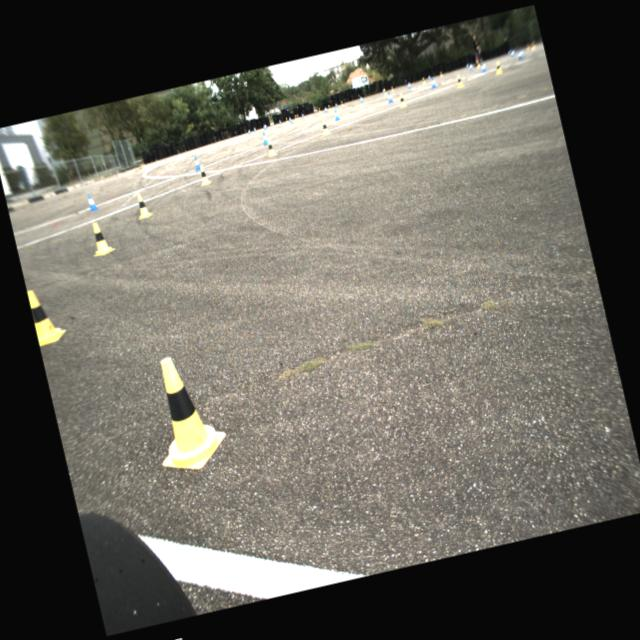blue_cone: (85, 192, 98, 212), (192, 155, 201, 170), (260, 131, 268, 145), (332, 108, 340, 120), (516, 49, 524, 60), (386, 90, 393, 102), (429, 76, 436, 88), (479, 62, 486, 72), (510, 49, 515, 57), (406, 82, 412, 88), (506, 49, 511, 55), (359, 95, 363, 102), (324, 106, 328, 113), (262, 123, 266, 130), (469, 63, 473, 70), (288, 116, 292, 122), (253, 126, 257, 132), (264, 123, 268, 128), (334, 102, 338, 107), (247, 128, 250, 134), (301, 112, 304, 117), (427, 75, 430, 80), (382, 88, 384, 94), (466, 62, 468, 68), (279, 120, 281, 124)
yellow_cone: (140, 348, 232, 476), (28, 284, 68, 345), (87, 219, 115, 256), (132, 191, 152, 219), (196, 165, 212, 186), (264, 140, 278, 156), (319, 118, 331, 136), (397, 91, 407, 108), (454, 73, 464, 88), (493, 60, 502, 74), (530, 40, 536, 50), (382, 88, 388, 96), (474, 60, 480, 68), (421, 76, 426, 85), (389, 85, 394, 92), (317, 106, 321, 114), (479, 58, 484, 64), (293, 114, 297, 121), (340, 100, 344, 107), (438, 70, 442, 77), (526, 42, 530, 49), (296, 114, 300, 120), (285, 116, 288, 122), (328, 104, 331, 110)
